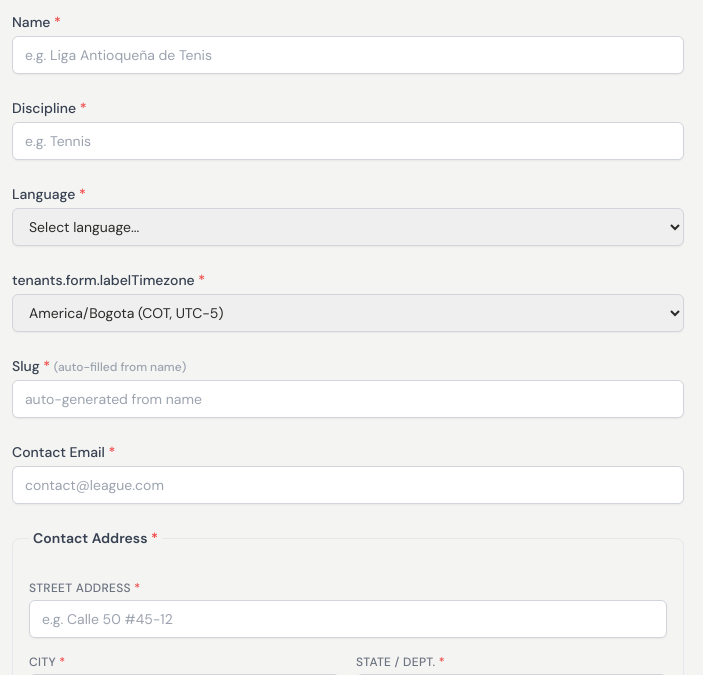
Test case: TenantForm › shows slug preview as user types name
The width and height of the screenshot is (703, 675).
Type "Liga de Futbol" into the field labelled "Name *".
click(348, 55); type("Liga de Futbol")  # box [12,36,684,74]
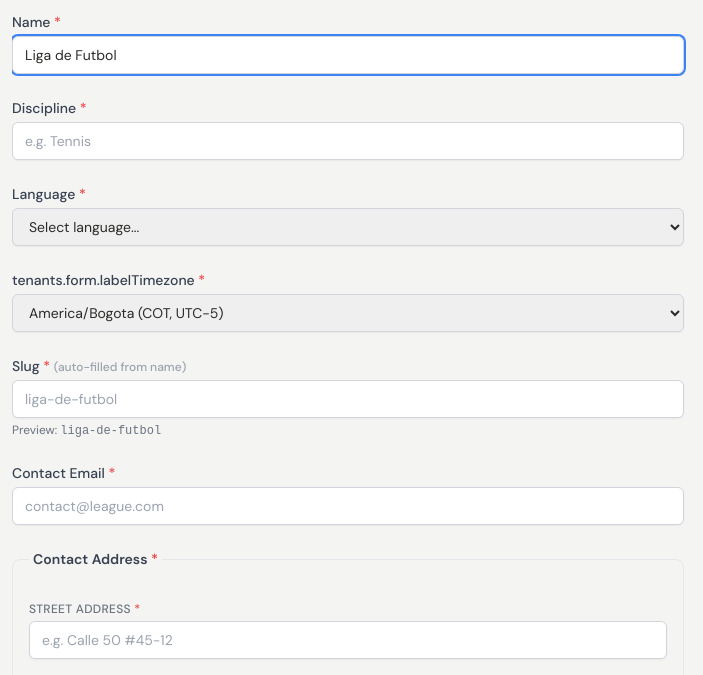
expect the text with test id "slug-preview" reads "liga-de-futbol": met, box [60,424,161,438]
